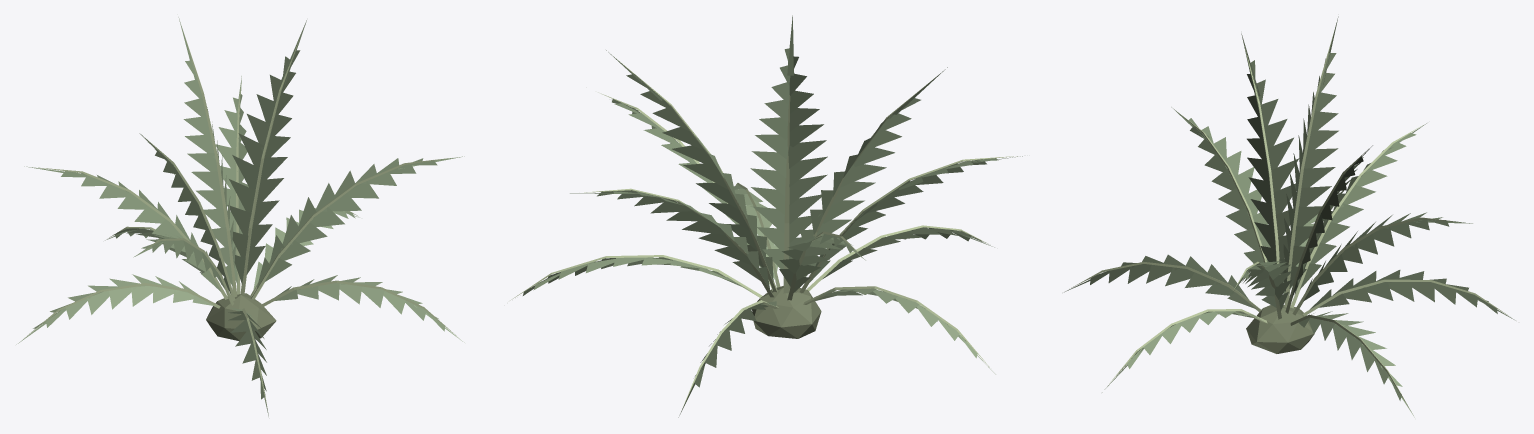
File: fern-plant-1559b8.glb
3 views of the same model, side by side, from view 1: azimuth 30°, elevation 25°; view 2: azimuth 150°, elevation 25°; view 3: azimuth 270°, elevation 25° (orthographic). The views are drawn at different scales.
Visible parts, largest first — view 1: fern-plant-mesh; view 2: fern-plant-mesh; view 3: fern-plant-mesh.
Boxes of the visible parts, bbox=[...] form: fern-plant-mesh: bbox=[16, 17, 464, 416]; fern-plant-mesh: bbox=[510, 15, 1022, 417]; fern-plant-mesh: bbox=[1064, 16, 1515, 417].
Bounding box in the file's own units: 1.02 × 0.7247 × 0.9735.
